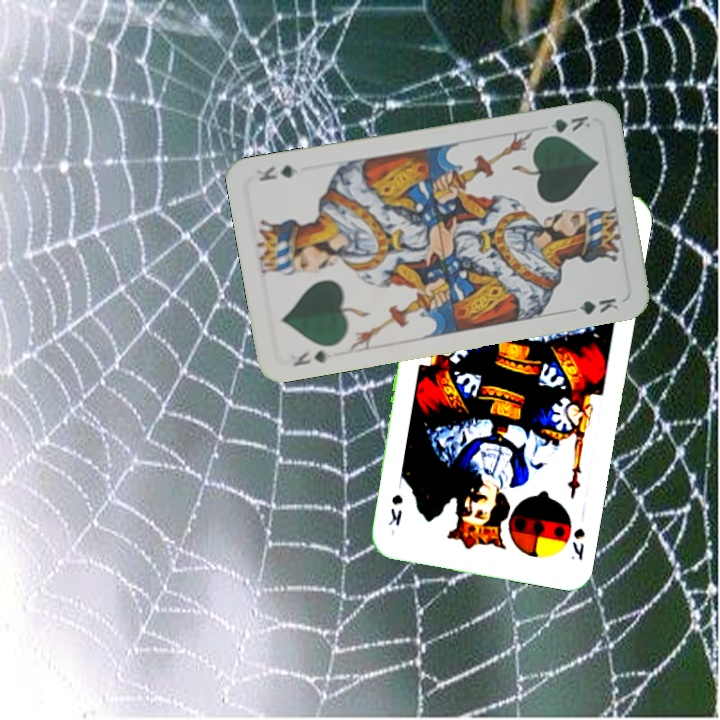GK: (538, 111, 593, 140), (289, 346, 330, 369)
SK: (567, 524, 588, 563)
